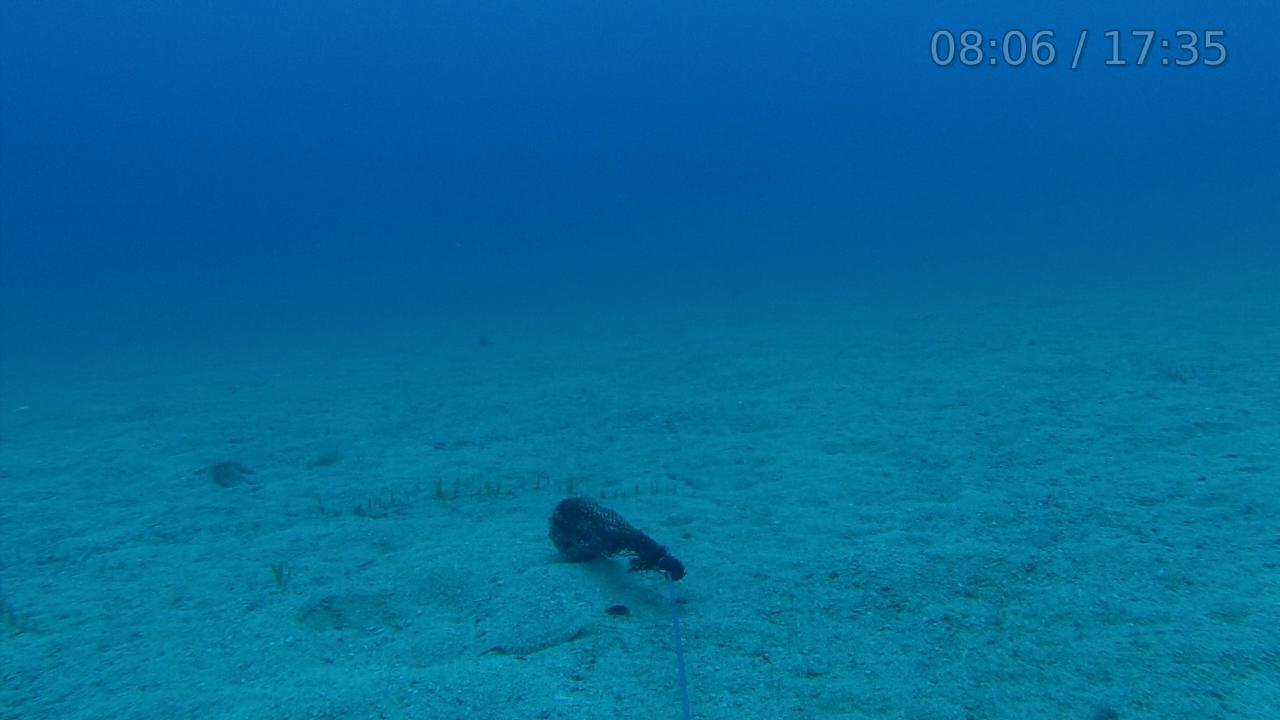bothus: (462, 585, 594, 664)
